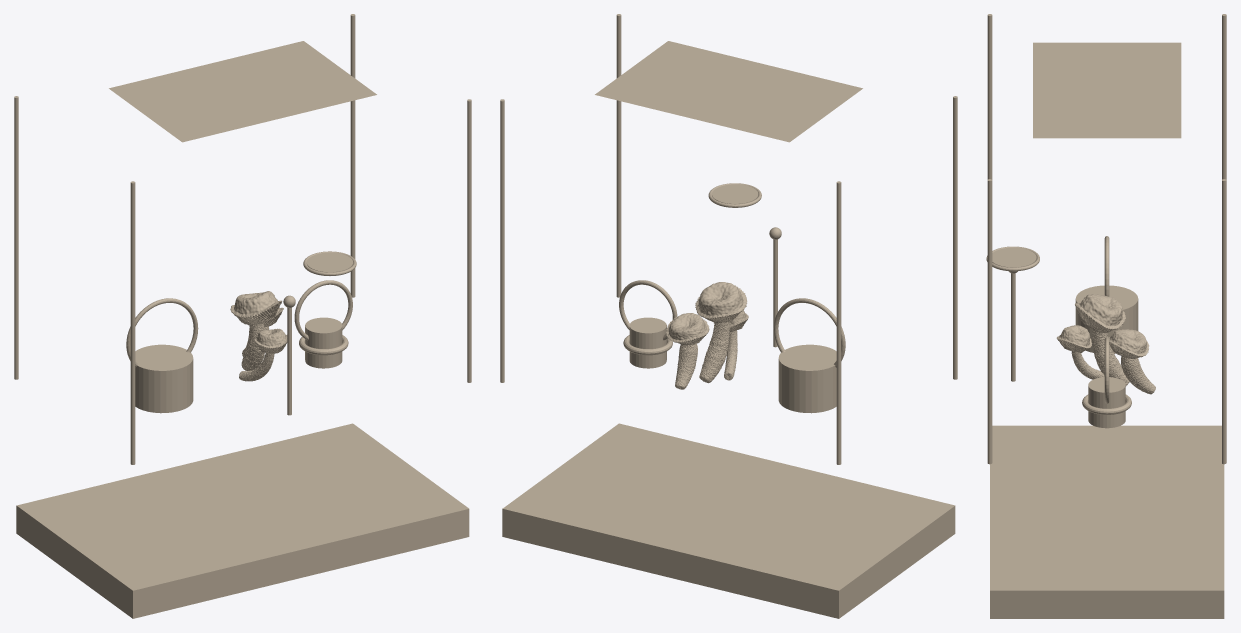
File: 3dcodebench_Mushroom_seed0_L6_Q3__gptoss120b.glb
3 views of the same model, side by side, from view 1: azimuth 30°, elevation 25°; view 2: azimuth 150°, elevation 25°; view 3: azimuth 270°, elevation 25° (orthographic).
Parts seen in each view (by area): view 1: object; view 2: object; view 3: object.
Part boxes in pixels (x1=…): object: x1=14, y1=14, x2=471, y2=618; object: x1=500, y1=14, x2=957, y2=618; object: x1=986, y1=14, x2=1226, y2=618.
Bounding box in the file's own units: 2.53 × 3.15 × 1.54.
